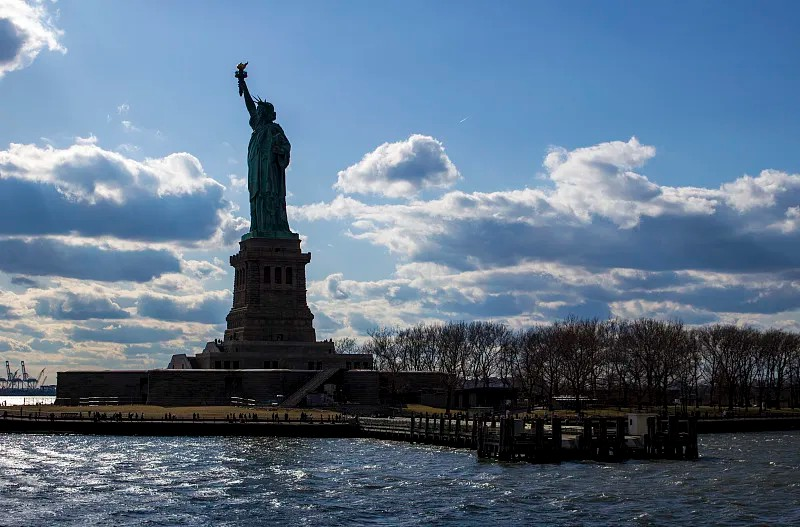SL: (223, 61, 317, 342)
